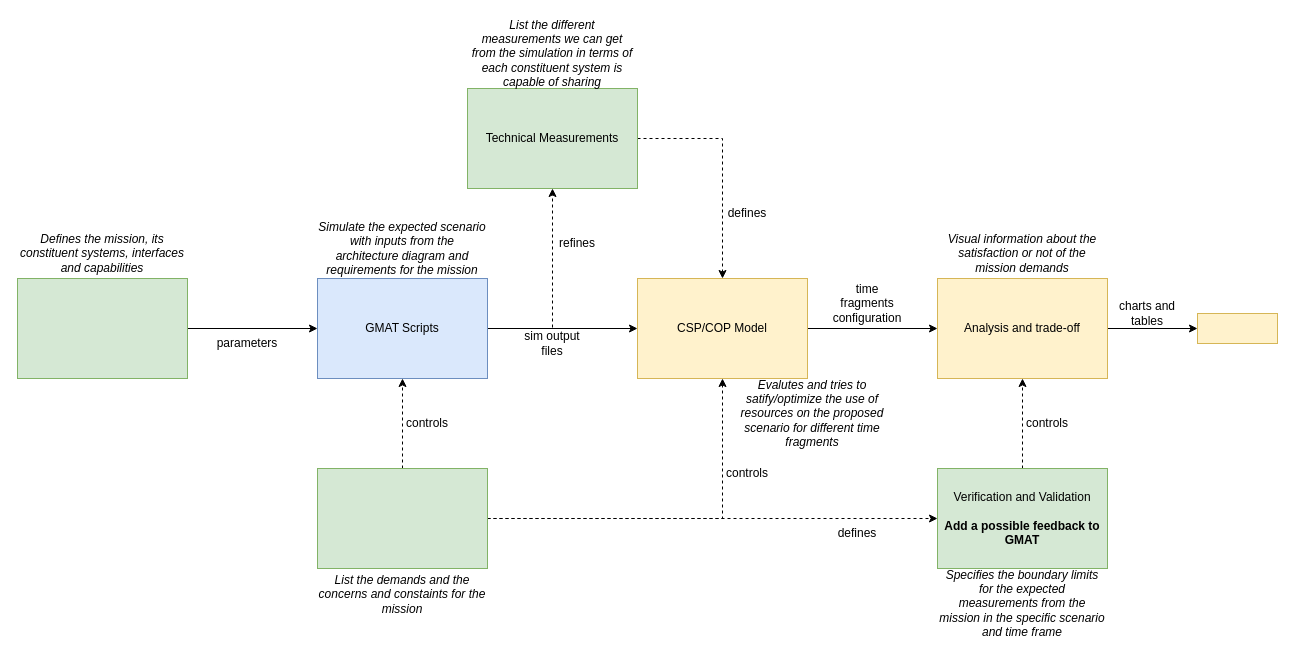
Image size: 1295x656. Some labels were removed from this diagram. Each missing label, with the box of its shape:
Architecture: (16, 278, 188, 378)
Requirements and Concerns: (316, 468, 488, 568)
Results and Discussion: (1196, 312, 1278, 344)
